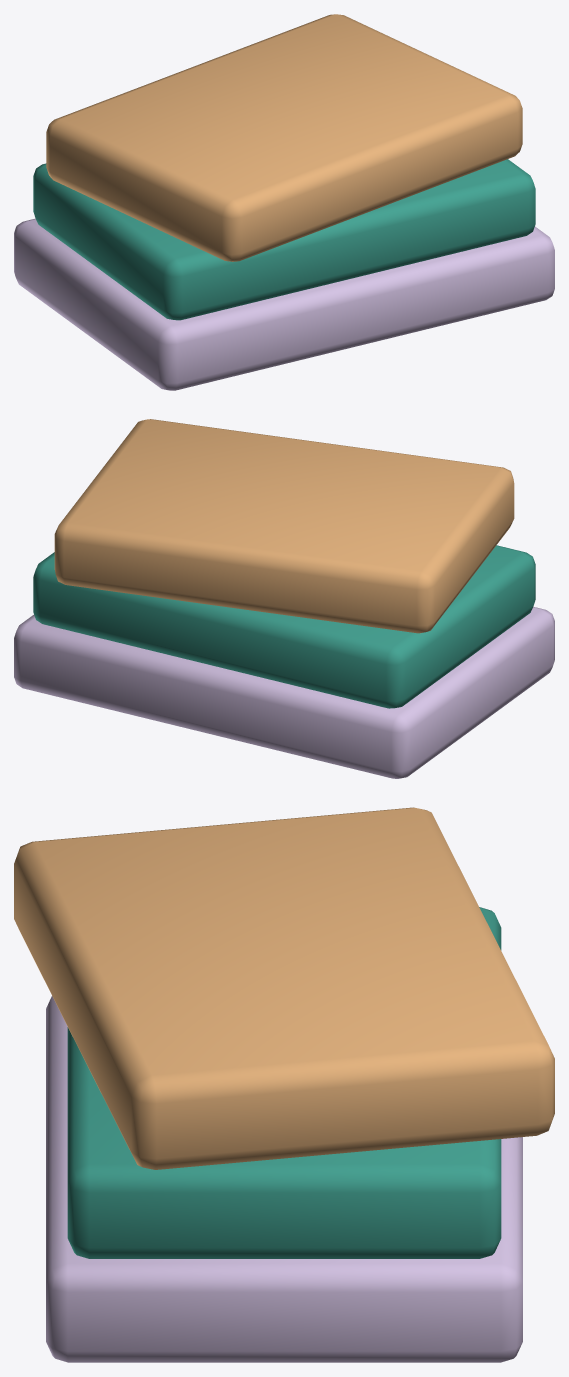
Rendered from books_b.glb.
3 views of the same model, one above another, from view 1: azimuth 30°, elevation 25°; view 2: azimuth 150°, elevation 25°; view 3: azimuth 270°, elevation 25° (orthographic). The views are drawn at different scales.
Parts seen in each view (by area): view 1: body; view 2: body; view 3: body.
Part boxes in pixels (left/top/right/bottom): body: left=14, top=14, right=554, bottom=390; body: left=14, top=419, right=554, bottom=778; body: left=14, top=807, right=554, bottom=1362.
Size of the model in its own units: 0.16 by 0.072 by 0.1248.
